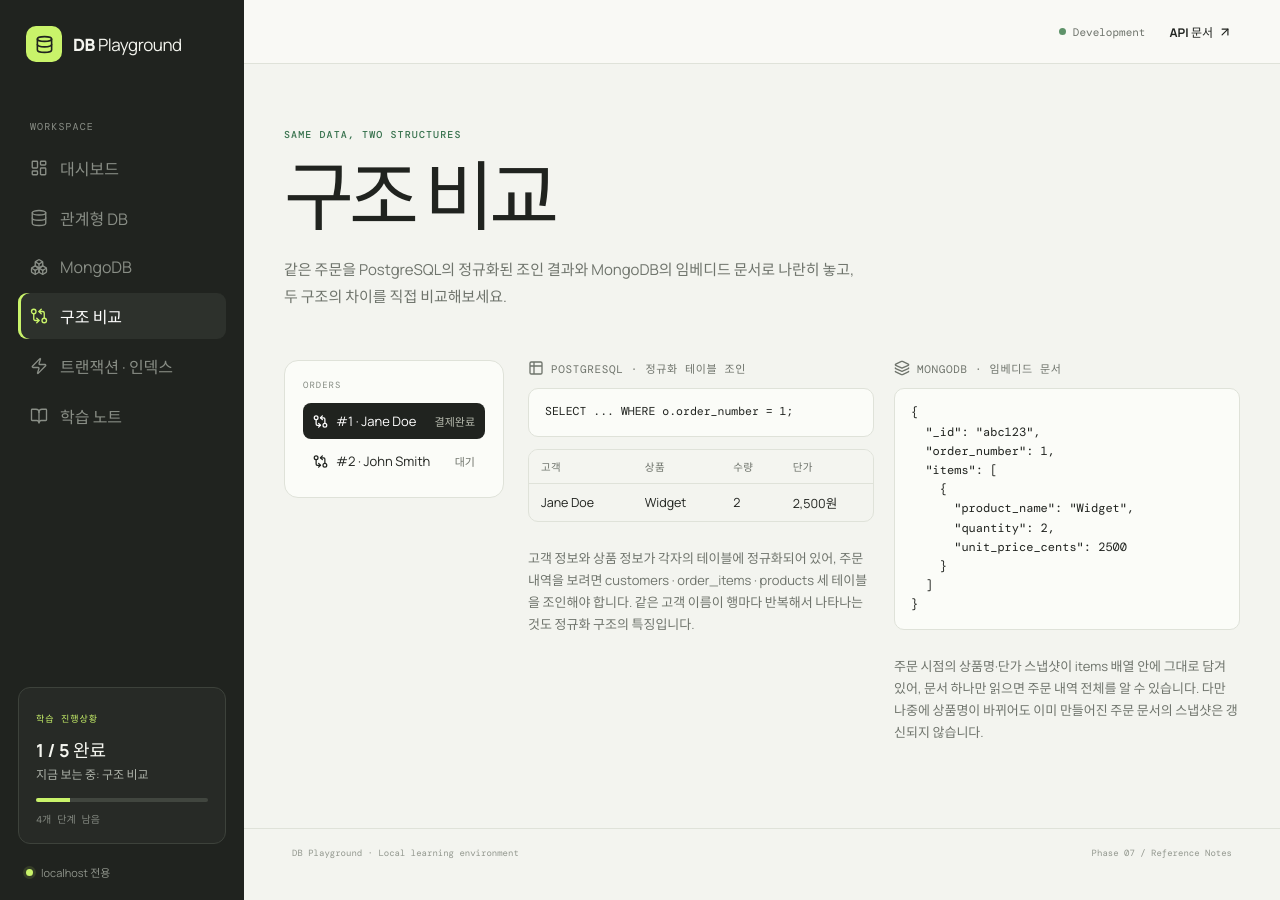
Scenario: ComparisonPage › switches to the selected order's comparison
Expected: the text "#1 · Jane Doe" is shown, [336,412,416,430]
Click the text "#2 · John Smith" at (383, 462), box [336,452,430,470]
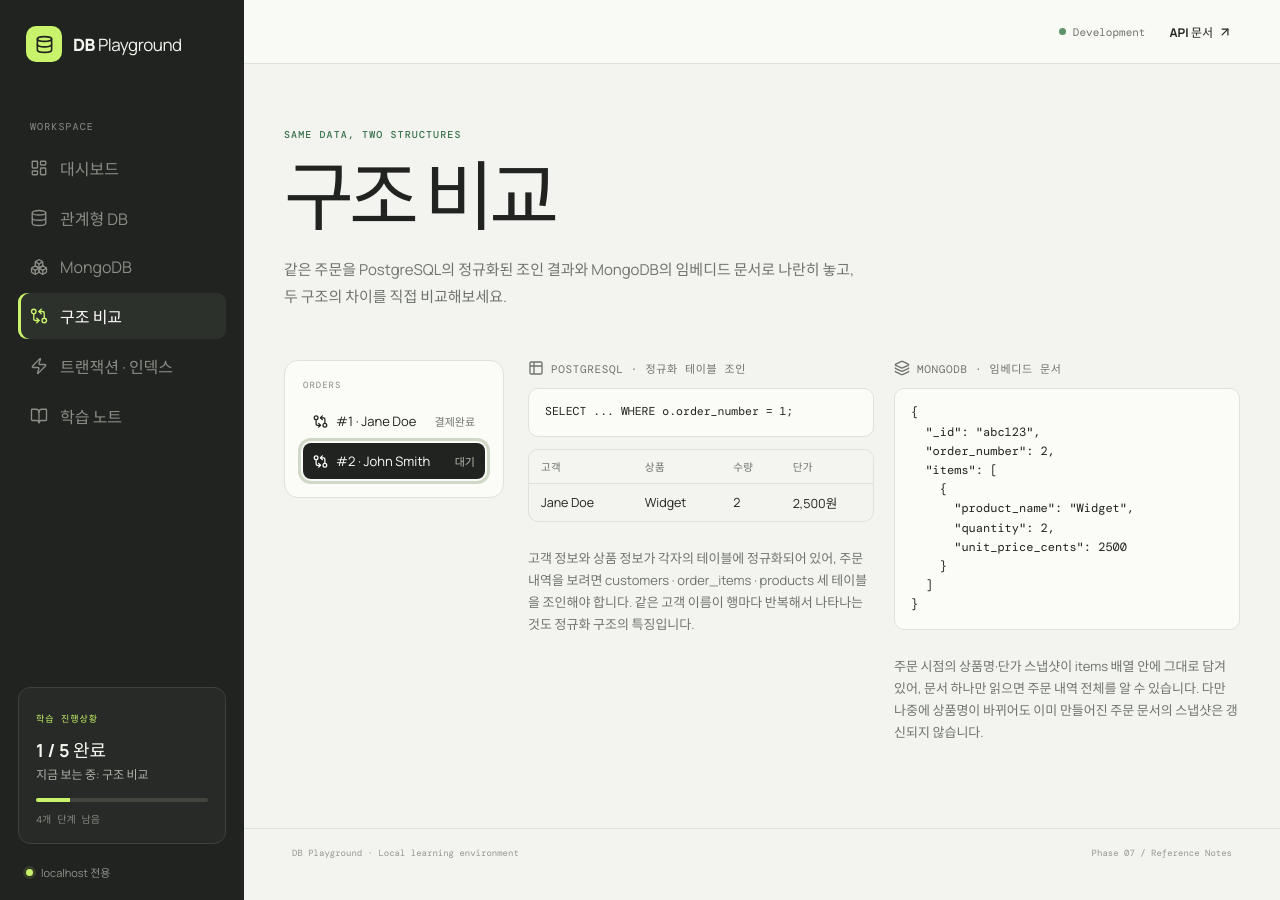
Expected: the text "MongoDB · 임베디드 문서" is shown, [917,360,1062,376]
Expected: the text with class "document-card" shows "\"order_number\": 2", [911,404,1134,612]
